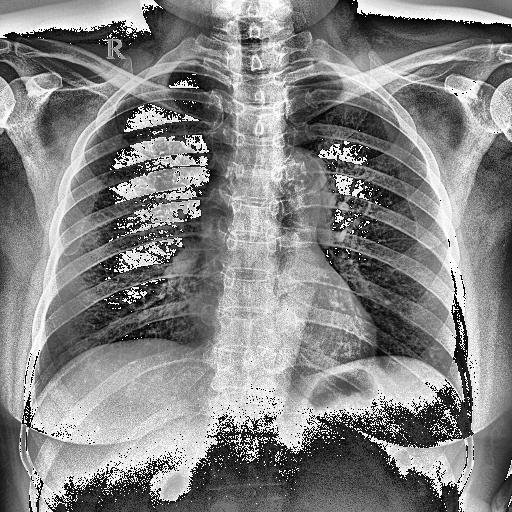0- Aortic enlargement: (186, 132, 344, 253), (257, 140, 342, 315)
2- Calcification: (290, 140, 340, 204)
